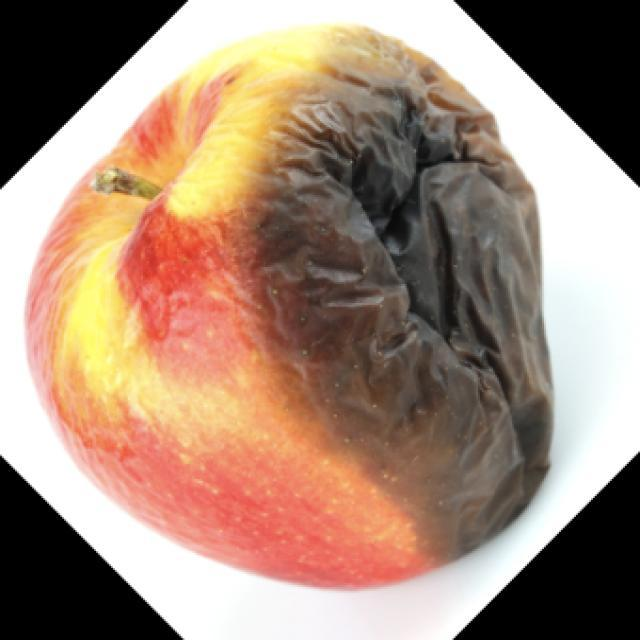Rotten: (51, 63, 552, 575)
